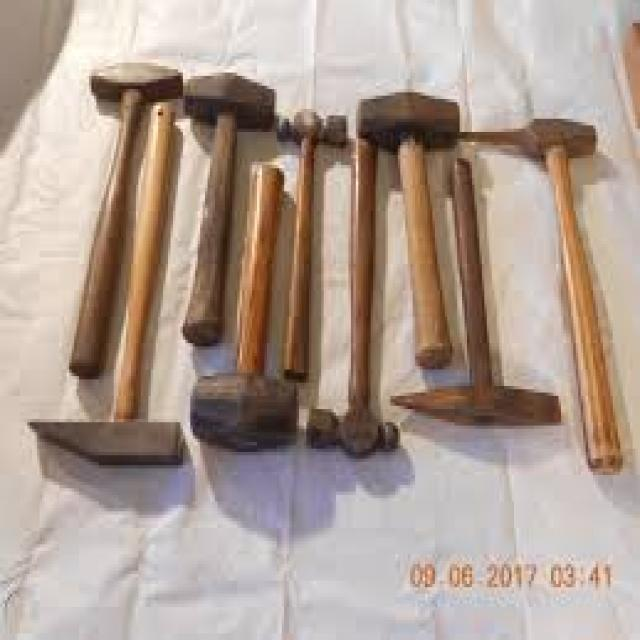hammer: (448, 110, 632, 483), (21, 99, 187, 478), (59, 41, 183, 391), (302, 130, 404, 463), (189, 153, 300, 457), (354, 79, 464, 373), (172, 53, 278, 353), (276, 102, 350, 383)
